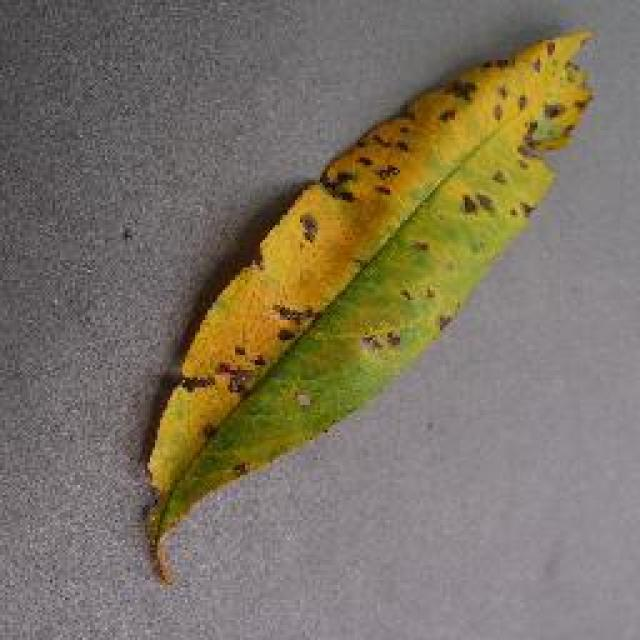Peach_Bacterial_Spot: (212, 87, 535, 393)
